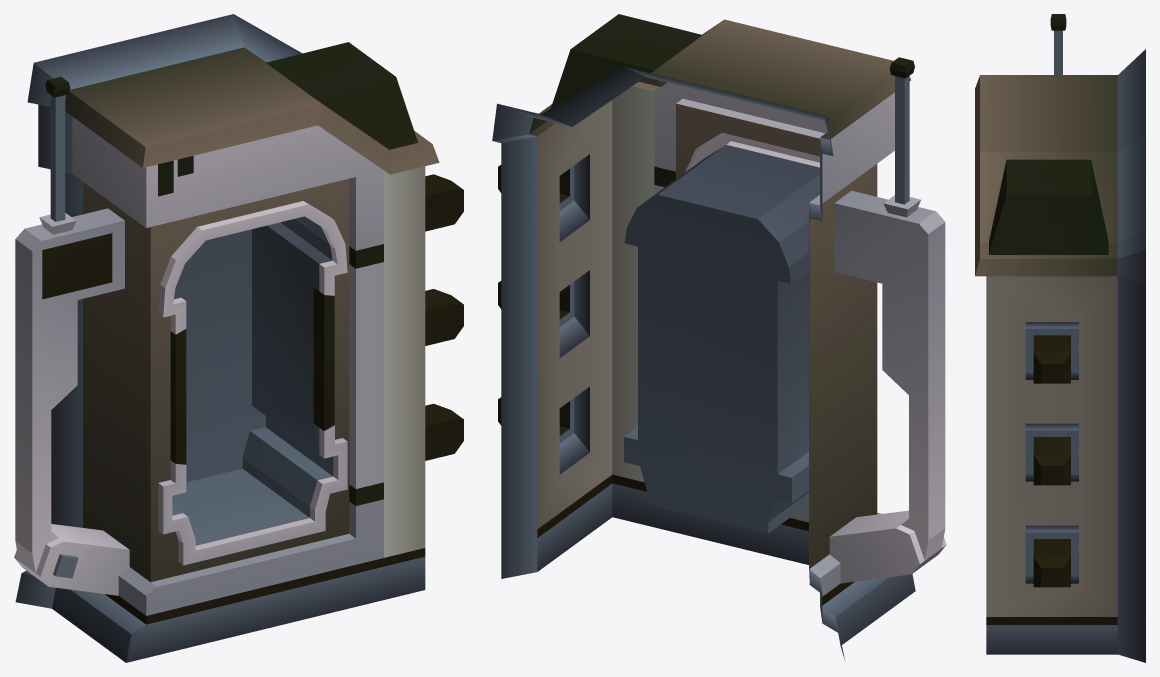
File: Socket_Node_Pared.fbx
The picture shows the model from 3 angles, left to right: view 1: azimuth 30°, elevation 25°; view 2: azimuth 150°, elevation 25°; view 3: azimuth 270°, elevation 25°; orthographic projection. The views are drawn at different scales.
Visible parts, largest first — view 1: Socket_Nodo_Pared; view 2: Socket_Nodo_Pared; view 3: Socket_Nodo_Pared.
Boxes of the visible parts, x1,y1,x2,y2 form: Socket_Nodo_Pared: [14, 14, 463, 662]; Socket_Nodo_Pared: [492, 14, 946, 661]; Socket_Nodo_Pared: [975, 14, 1145, 662].
Bounding box in the file's own units: 44.85 × 55.67 × 17.37.
